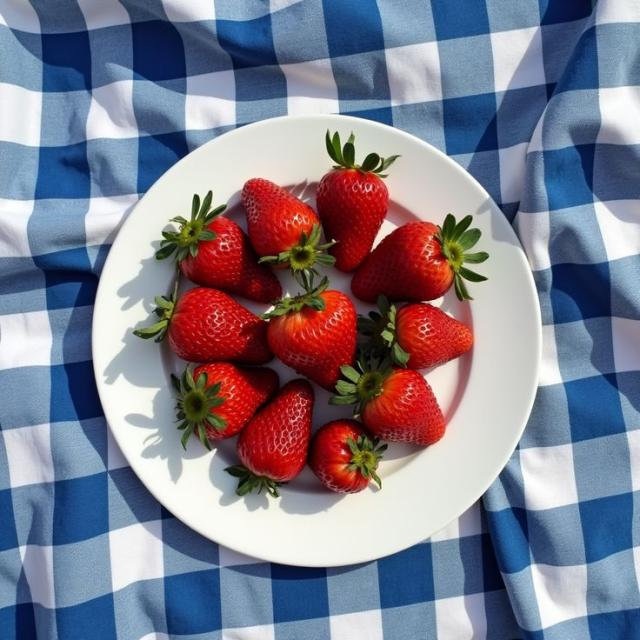strawberry: (156, 191, 281, 302), (352, 214, 487, 302), (316, 131, 398, 271), (134, 287, 273, 364), (265, 279, 357, 390), (227, 380, 313, 497), (171, 362, 279, 449), (330, 366, 446, 446), (242, 178, 333, 272), (359, 296, 473, 369), (308, 420, 386, 493)
